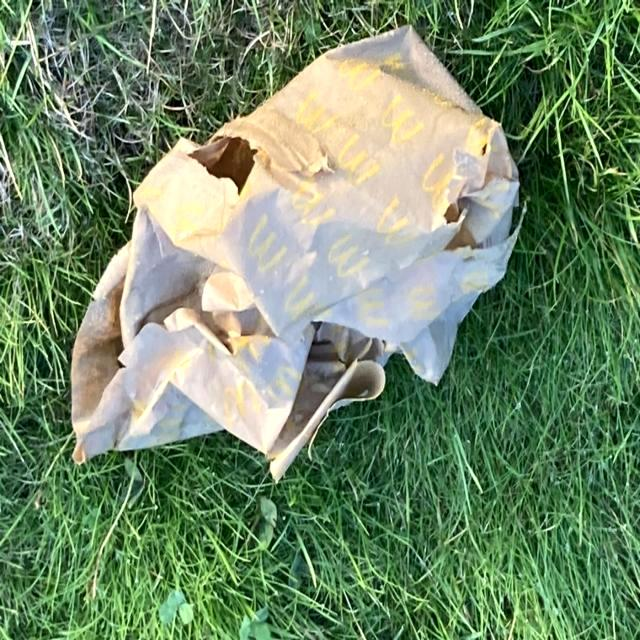Paper: (68, 20, 530, 488)
